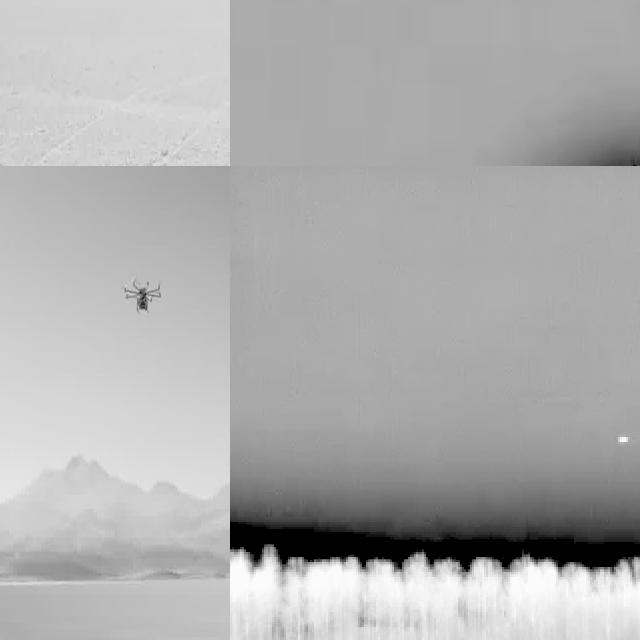1: (605, 430, 637, 452)
drone: (122, 269, 167, 323)
